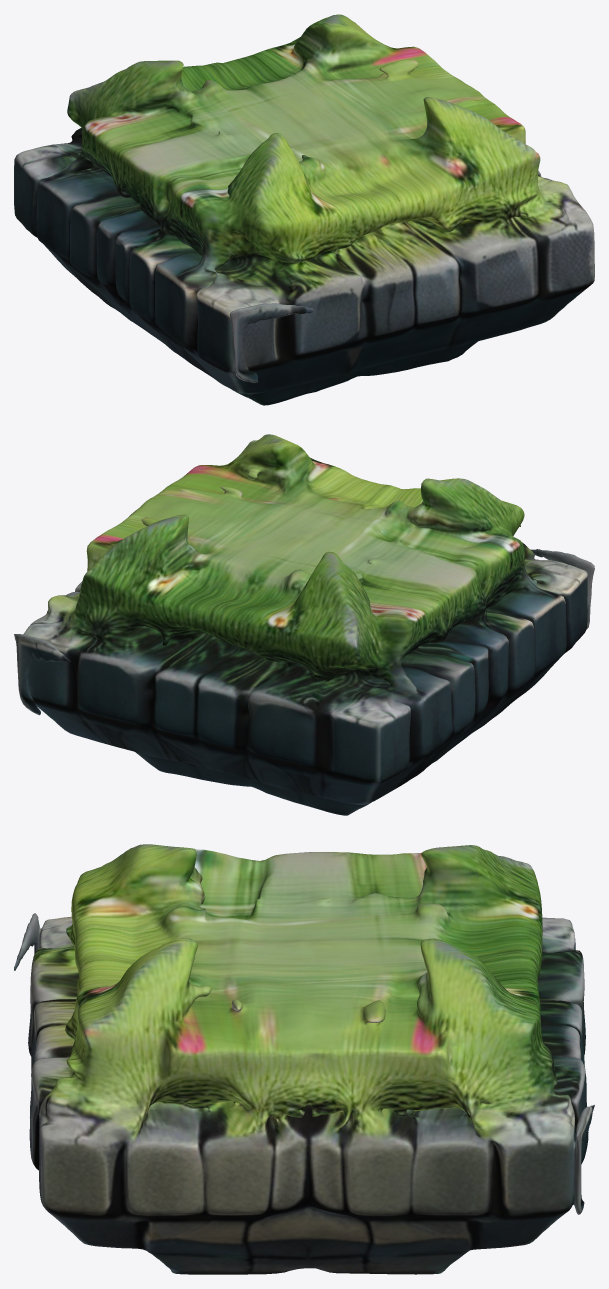
The model's file is hex_grass.glb.
3 views of the same model, one above another, from view 1: azimuth 30°, elevation 25°; view 2: azimuth 150°, elevation 25°; view 3: azimuth 270°, elevation 25° (orthographic). The views are drawn at different scales.
Visible parts, largest first — view 1: tripo_node_74e7c906-3fac-4534-8f59-bbd5011c8951; view 2: tripo_node_74e7c906-3fac-4534-8f59-bbd5011c8951; view 3: tripo_node_74e7c906-3fac-4534-8f59-bbd5011c8951.
Boxes of the visible parts, x1=… form: tripo_node_74e7c906-3fac-4534-8f59-bbd5011c8951: x1=14, y1=14, x2=594, y2=405; tripo_node_74e7c906-3fac-4534-8f59-bbd5011c8951: x1=14, y1=434, x2=594, y2=815; tripo_node_74e7c906-3fac-4534-8f59-bbd5011c8951: x1=14, y1=844, x2=594, y2=1274.
Size of the model in its own units: 0.6819 by 0.4523 by 0.7133.
1 material, 1 textured.
